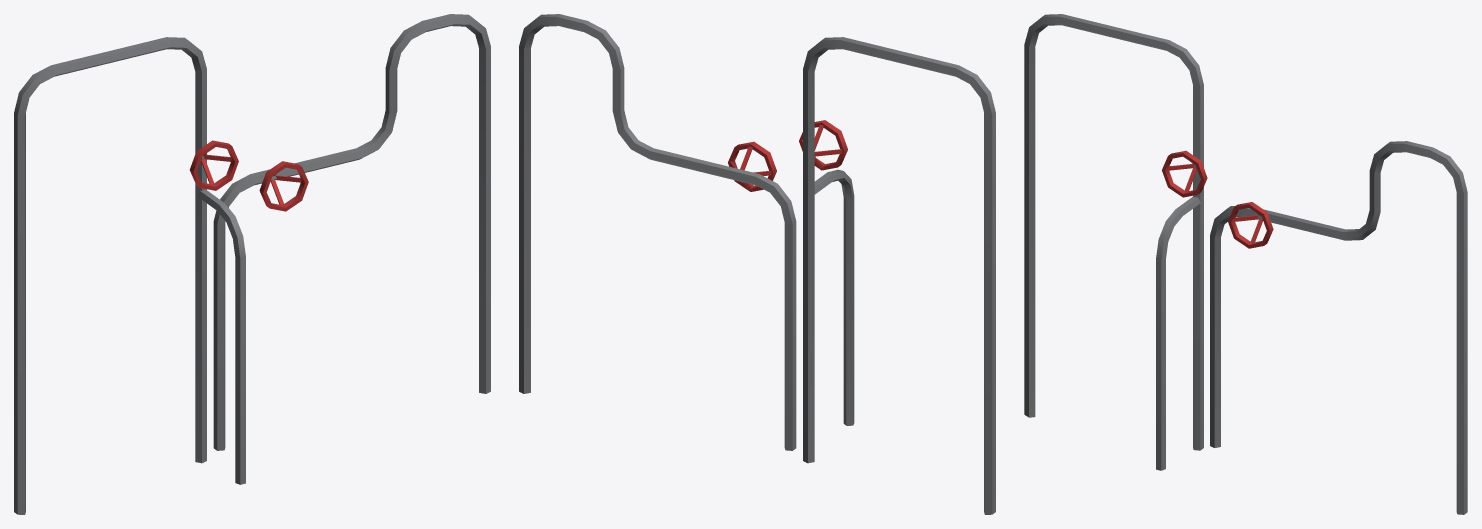
Rendered from SM_pipe_gas.fbx.
3 renders of one model, left to right at view 1: azimuth 30°, elevation 25°; view 2: azimuth 150°, elevation 25°; view 3: azimuth 330°, elevation 25°, orthographic. The views are drawn at different scales.
Visible parts, largest first — view 1: Object045; view 2: Object045; view 3: Object045.
Boxes of the visible parts, <box> form: Object045: <box>14,14,490,514</box>; Object045: <box>519,14,995,514</box>; Object045: <box>1024,14,1467,514</box>.
Size of the model in its own units: 84.66 by 14.06 by 75.07.
